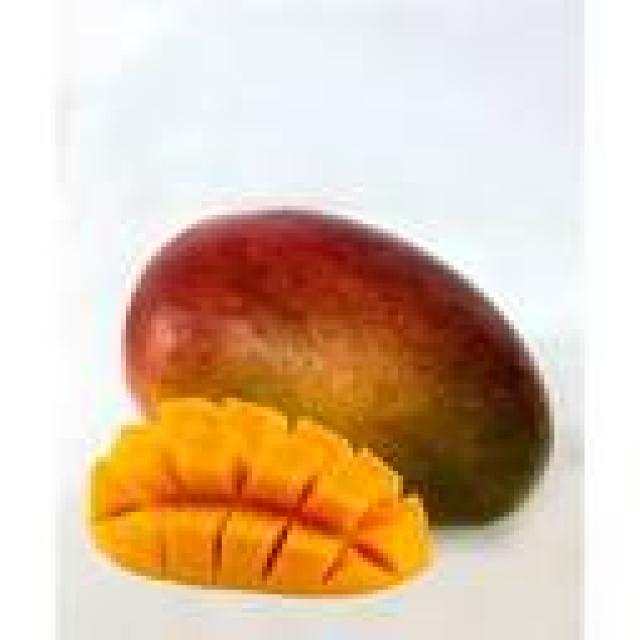mango: (127, 210, 548, 521), (90, 399, 430, 592)
